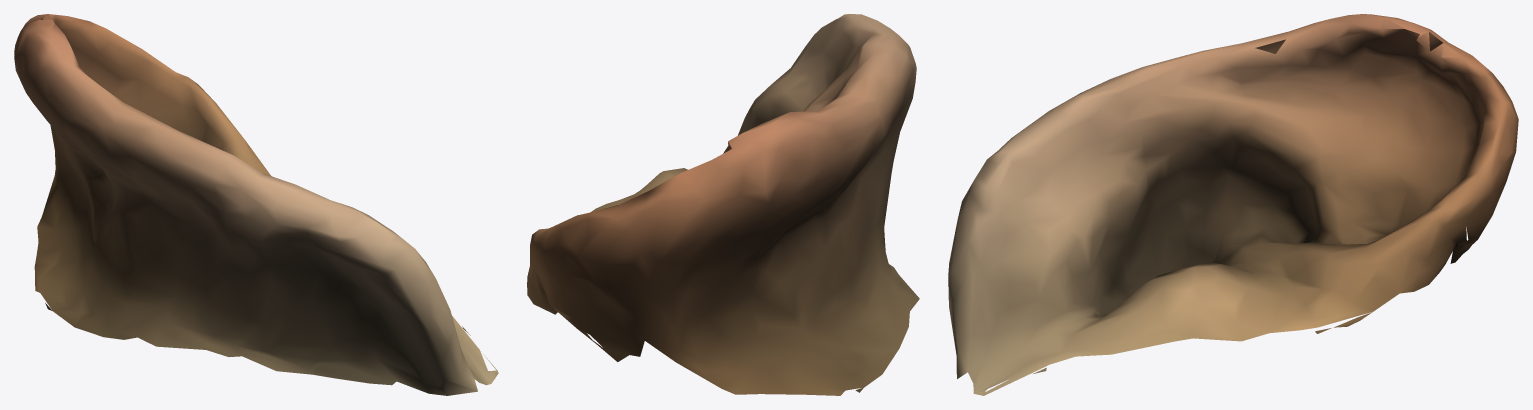
File: zeometry-organic-forms-ear_v1.fbx
3 views of the same model, side by side, from view 1: azimuth 30°, elevation 25°; view 2: azimuth 150°, elevation 25°; view 3: azimuth 270°, elevation 25° (orthographic). The views are drawn at different scales.
Visible parts, largest first — view 1: Ear; view 2: Ear; view 3: Ear.
Boxes of the visible parts, x1,y1,x2,y2 form: Ear: (14,14,498,395); Ear: (527,14,919,395); Ear: (948,14,1518,395).
Bounding box in the file's own units: 0.2899 × 0.2529 × 0.5.
